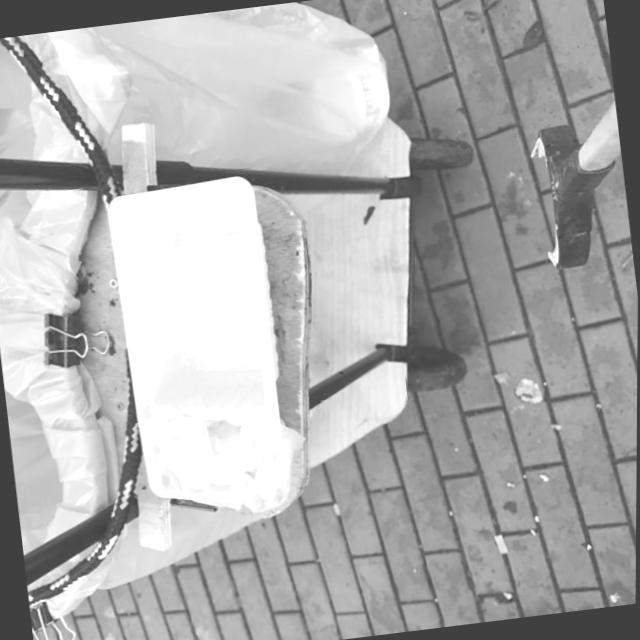Paper: (142, 386, 314, 524), (511, 373, 542, 406)
Plastic: (98, 166, 318, 527)
